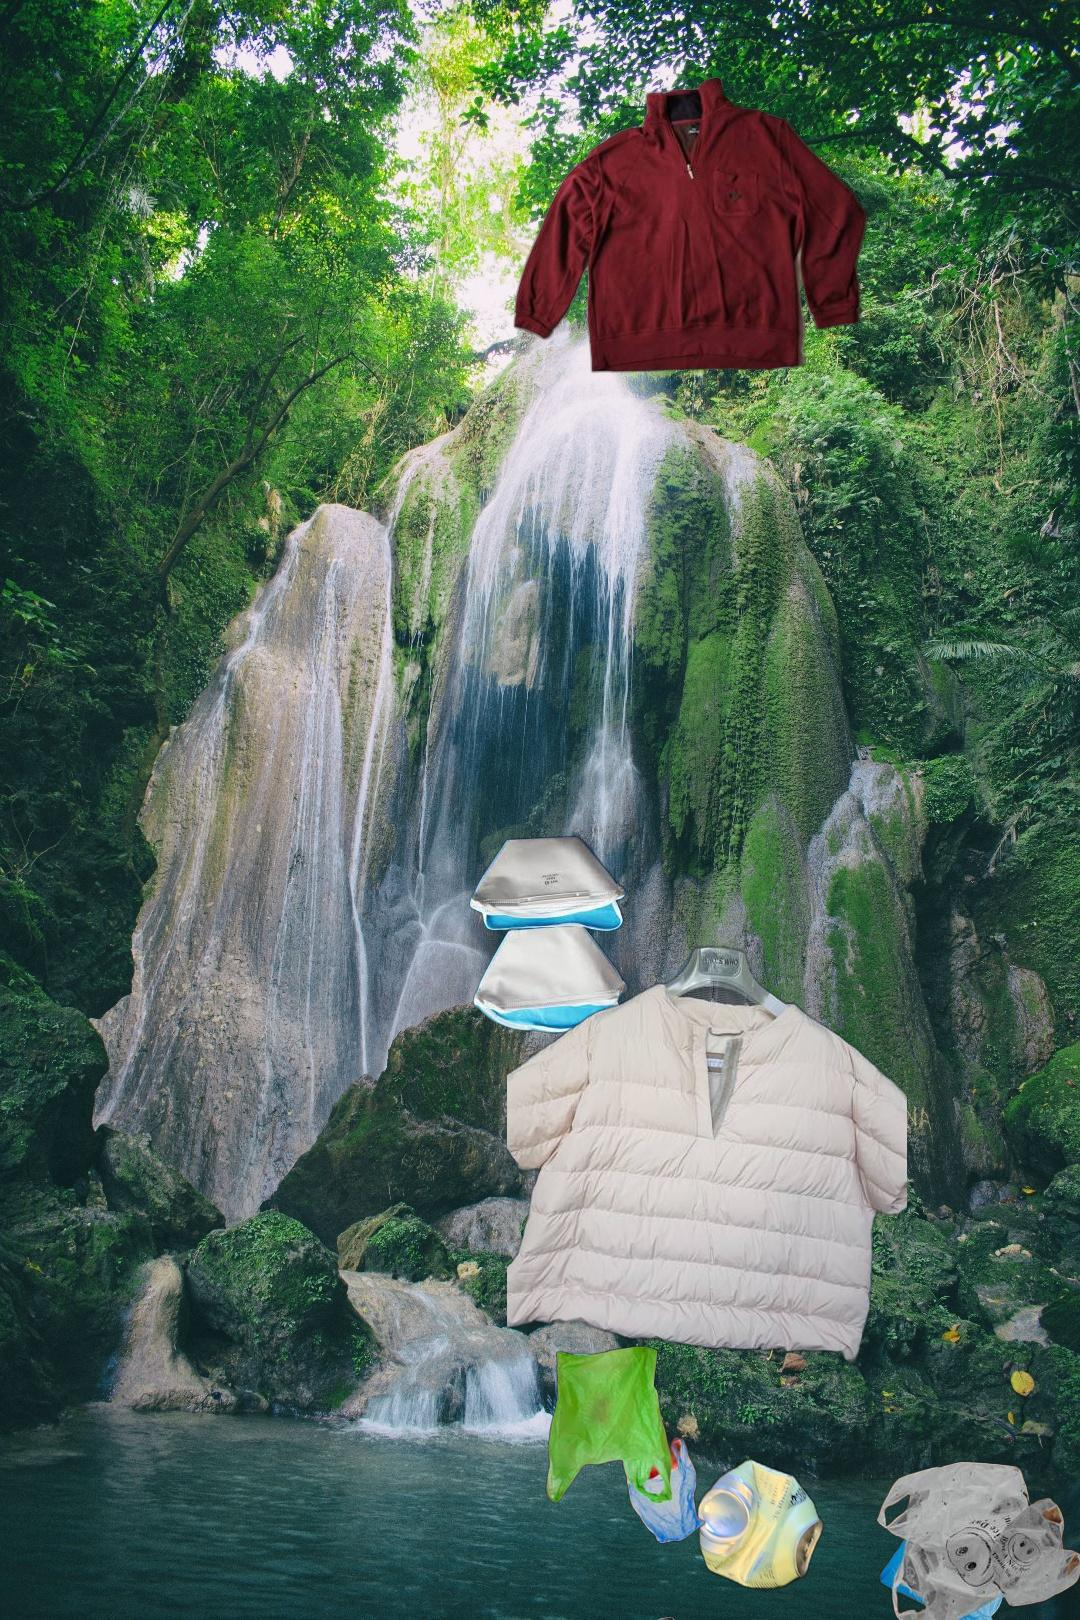battery: (714, 1352, 1080, 1620), (413, 1618, 702, 1620)
clothes: (507, 937, 906, 1372), (510, 74, 871, 375)
metal-cans: (693, 1454, 828, 1595)
plastic-bag: (542, 1338, 708, 1546), (874, 1461, 1080, 1620)
trash: (466, 834, 630, 1035)
